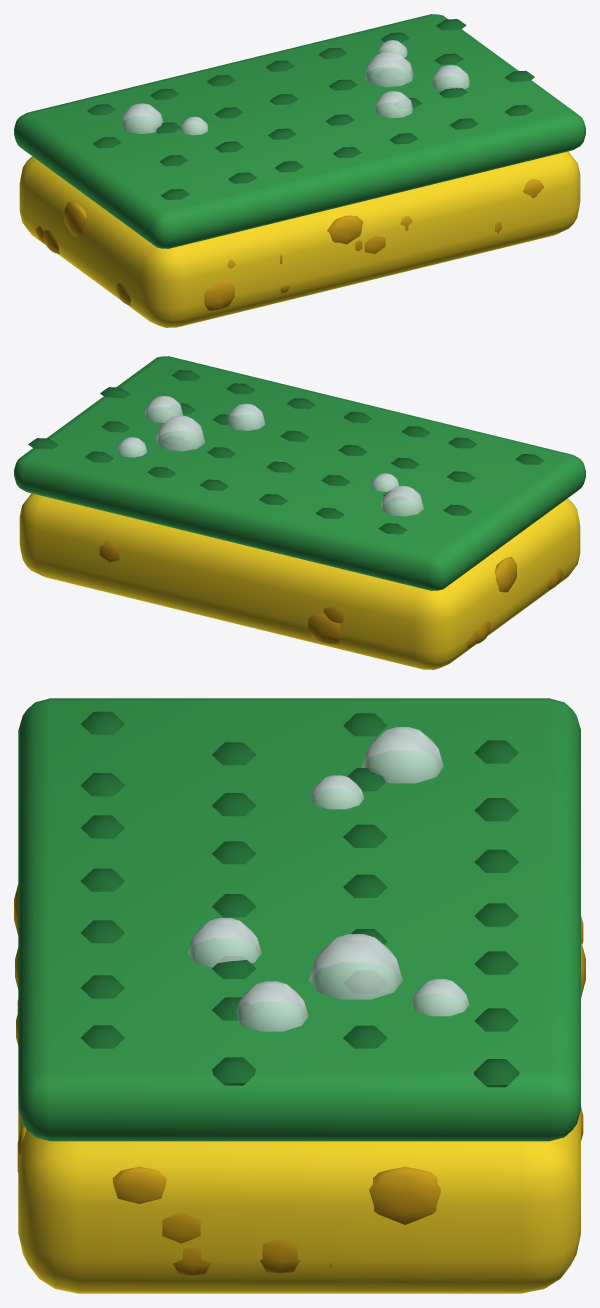
File: dish_sponge.glb
The picture shows the model from 3 angles, top to bottom: view 1: azimuth 30°, elevation 25°; view 2: azimuth 150°, elevation 25°; view 3: azimuth 270°, elevation 25°; orthographic projection. The views are drawn at different scales.
Parts seen in each view (by area): view 1: DishSponge; view 2: DishSponge; view 3: DishSponge.
Part boxes in pixels (left/top/right/bottom): DishSponge: left=14, top=14, right=585, bottom=327; DishSponge: left=14, top=356, right=585, bottom=669; DishSponge: left=14, top=698, right=585, bottom=1293.
Size of the model in its own units: 5.05 by 1.61 by 3.05.
